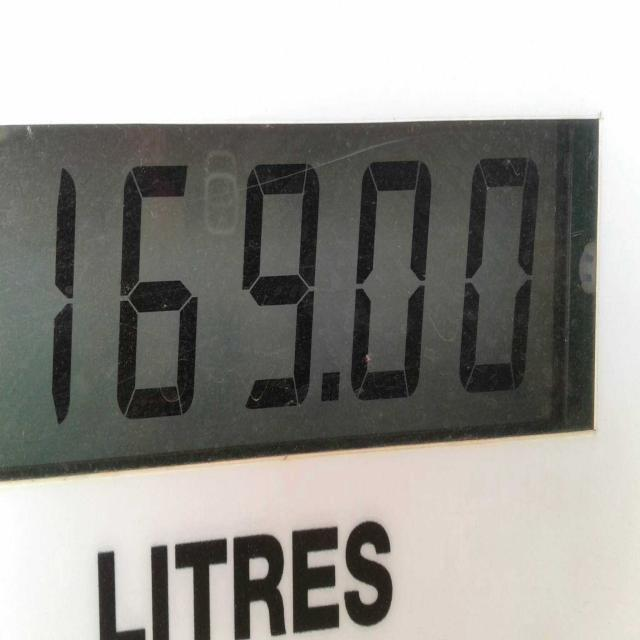.: (314, 352, 352, 421)
0: (446, 142, 550, 402), (343, 141, 440, 415)
1: (32, 146, 110, 438)
6: (99, 142, 216, 426)
9: (218, 155, 321, 422)
